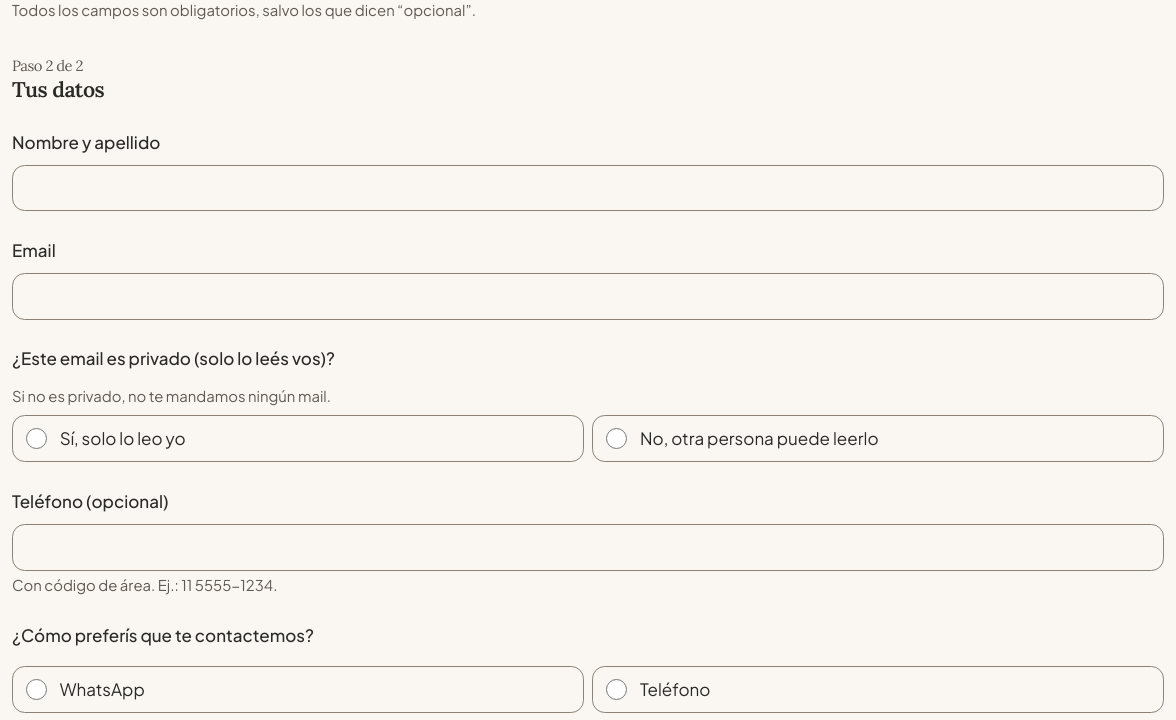
Test: InquiryForm (US-03) › sending › sends every field and the Turnstile token, then confirms with the reference (CA3)
Earlier steps of the test are not shown.
Type "Ana Pérez" into the field labelled "Nombre y apellido" at (588,188), box x1=12 y1=165 x2=1164 y2=212
Type "ana@example.com" into the field labelled "Email" at (588,296), box x1=12 y1=273 x2=1164 y2=320
Type "+54 9 11 5555-1234" into the field labelled "Teléfono (opcional)" at (588,547), box x1=12 y1=524 x2=1164 y2=571
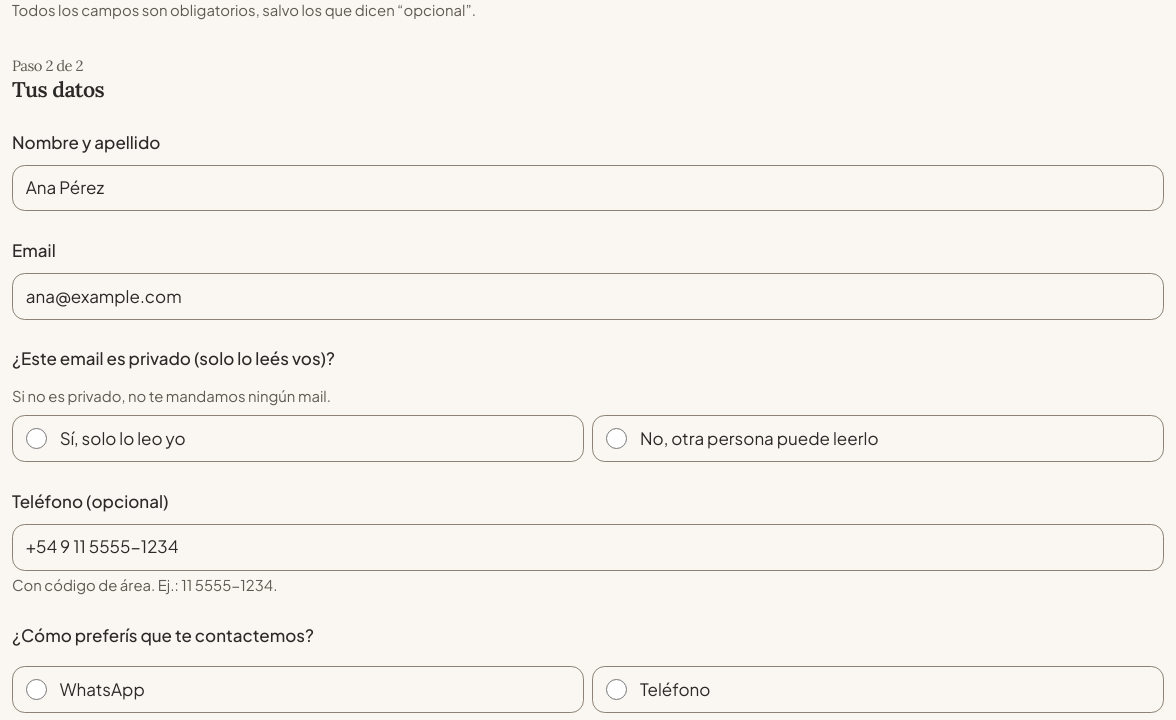
Click the radio button labelled "Sí, solo lo leo yo" at (36,439), box x1=26 y1=428 x2=47 y2=450
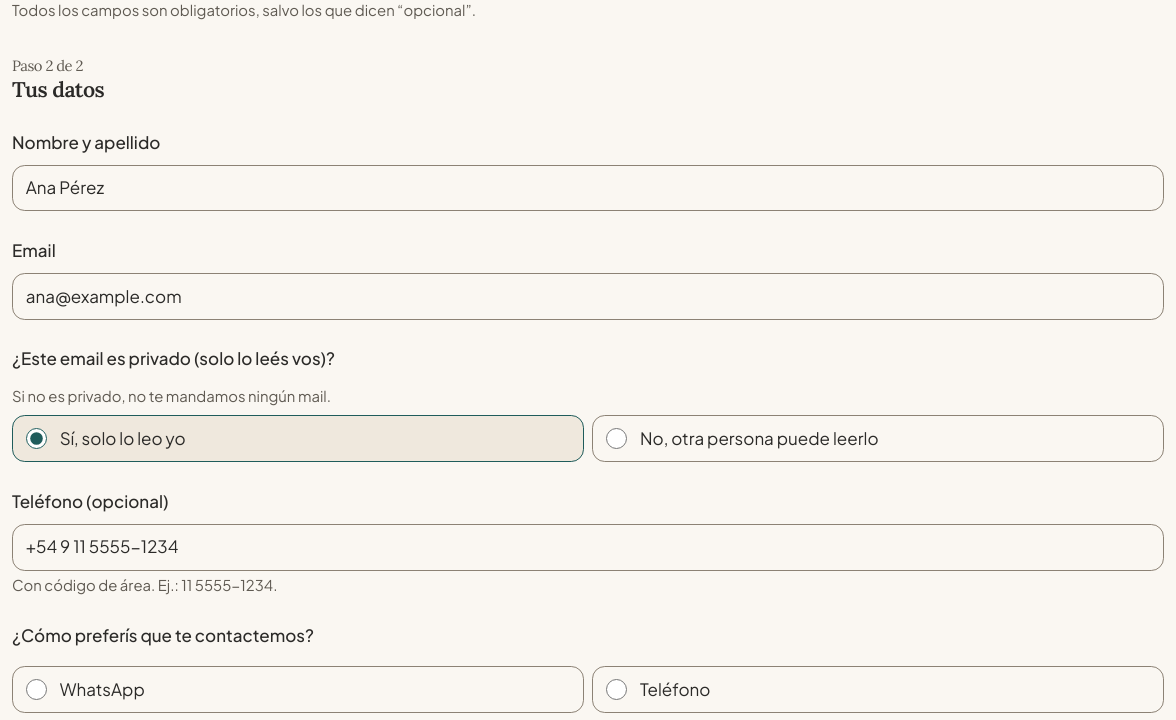
Click the radio button labelled "WhatsApp" at (36,690), box x1=26 y1=679 x2=47 y2=700
(page scrolled)
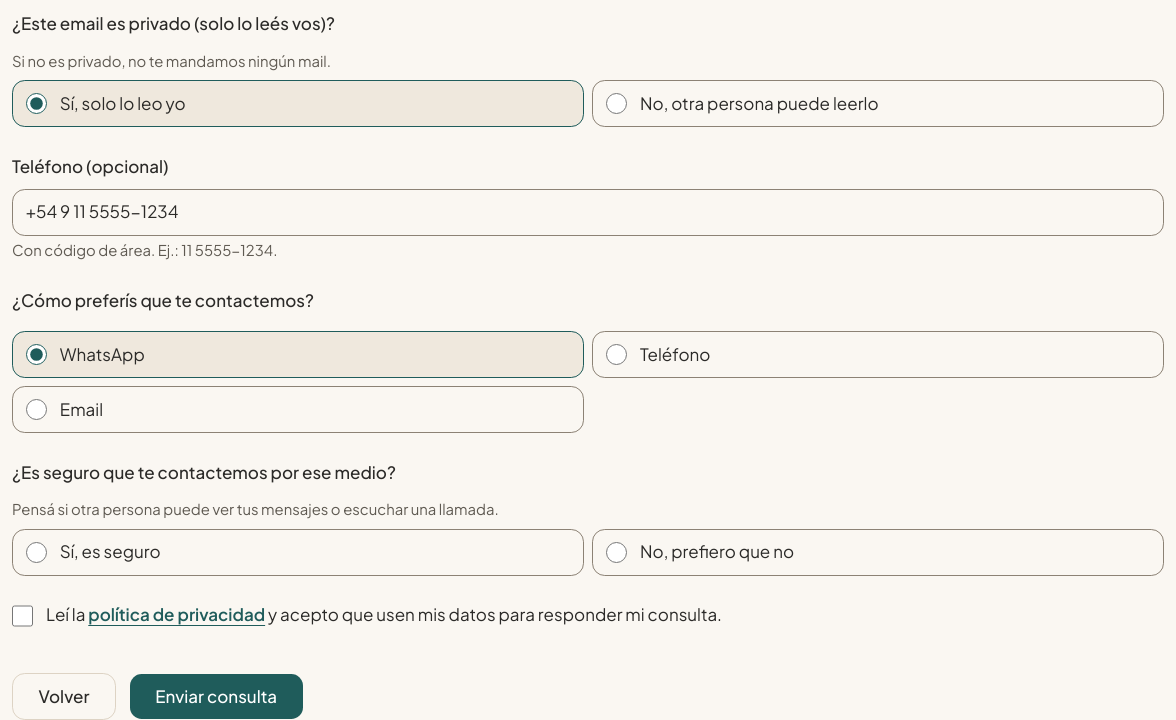
Click the radio button labelled "Sí, es seguro" at (36,552), box x1=26 y1=542 x2=47 y2=563
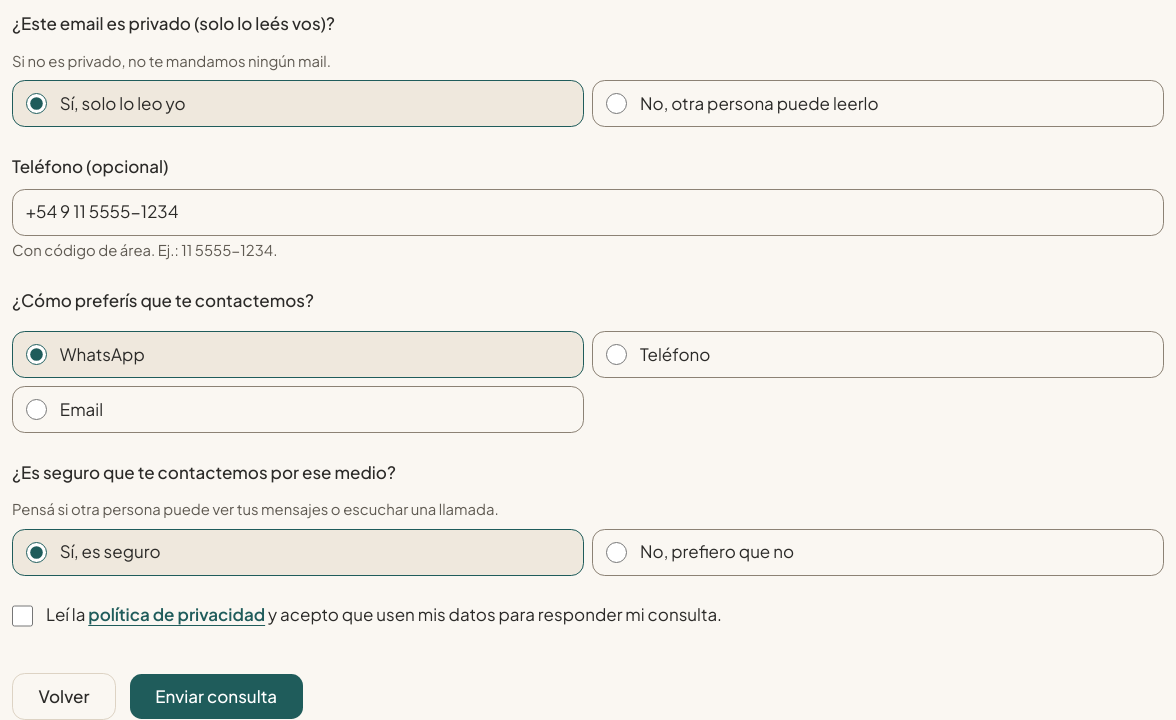
Click the checkbox at (23,616), box x1=12 y1=605 x2=33 y2=627
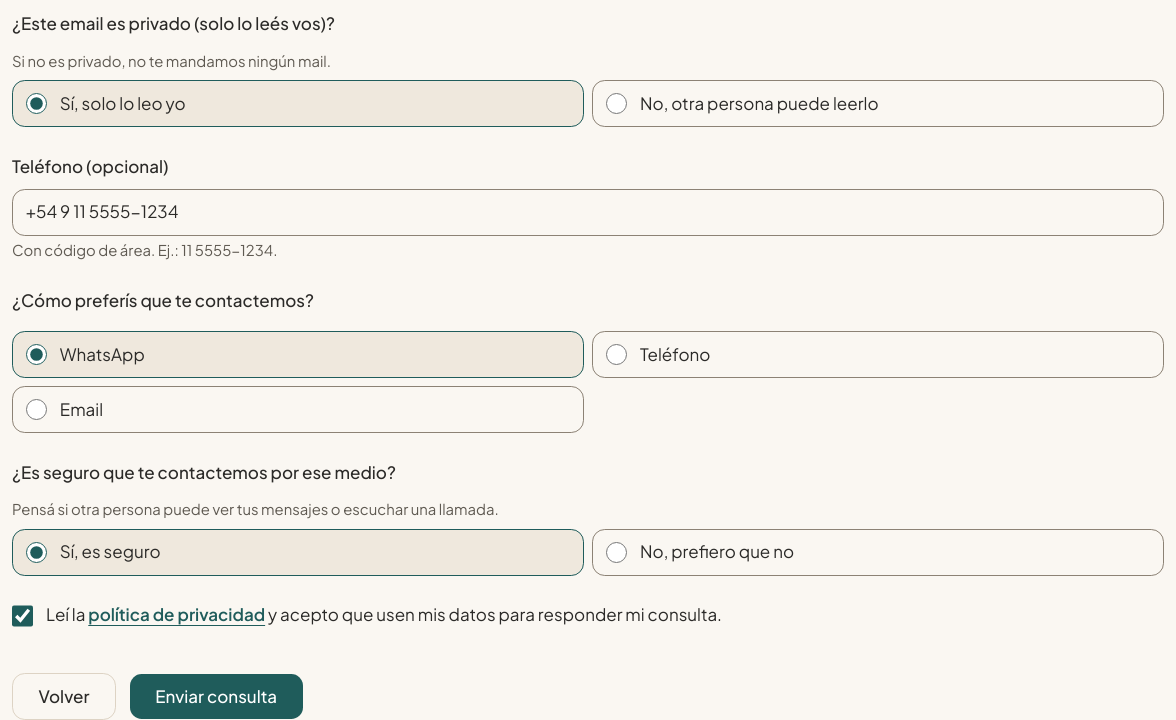
Click the button "Enviar consulta" at (216,697), box x1=129 y1=673 x2=304 y2=719
(page scrolled)
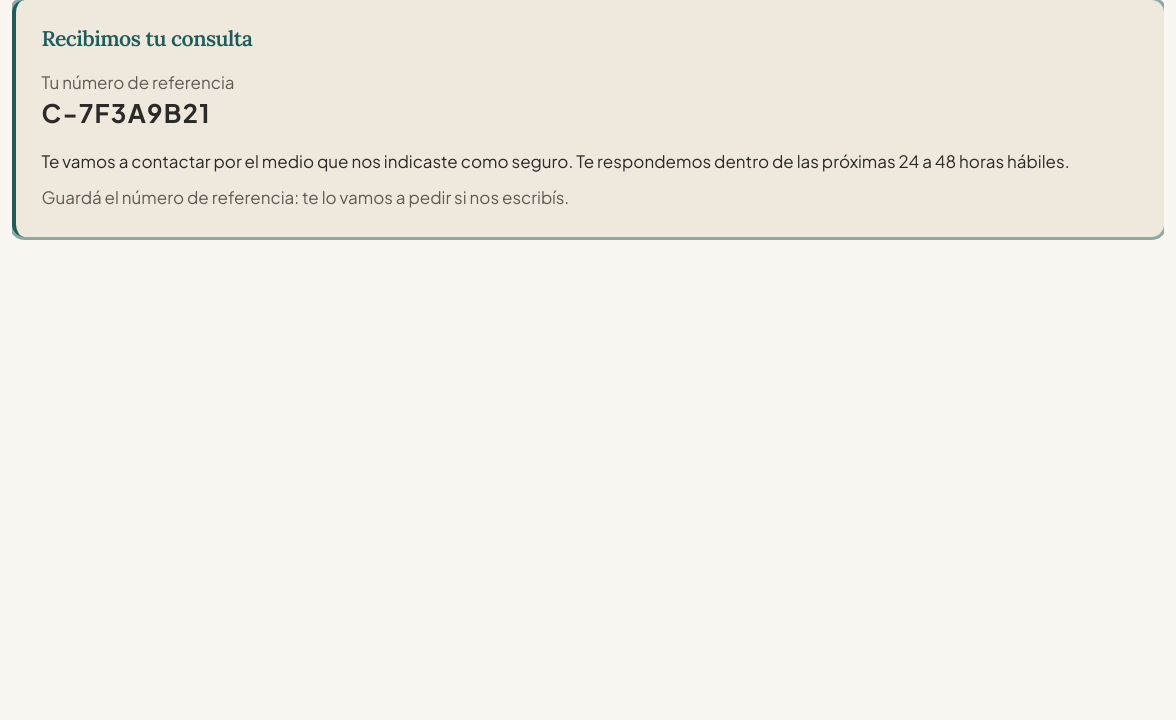
Expected: the text "C-7F3A9B21" is shown, x1=42 y1=97 x2=211 y2=129
Expected: the text "Te respondemos dentro de las próximas 24 a 48 horas hábiles." is shown, x1=576 y1=150 x2=1070 y2=172
